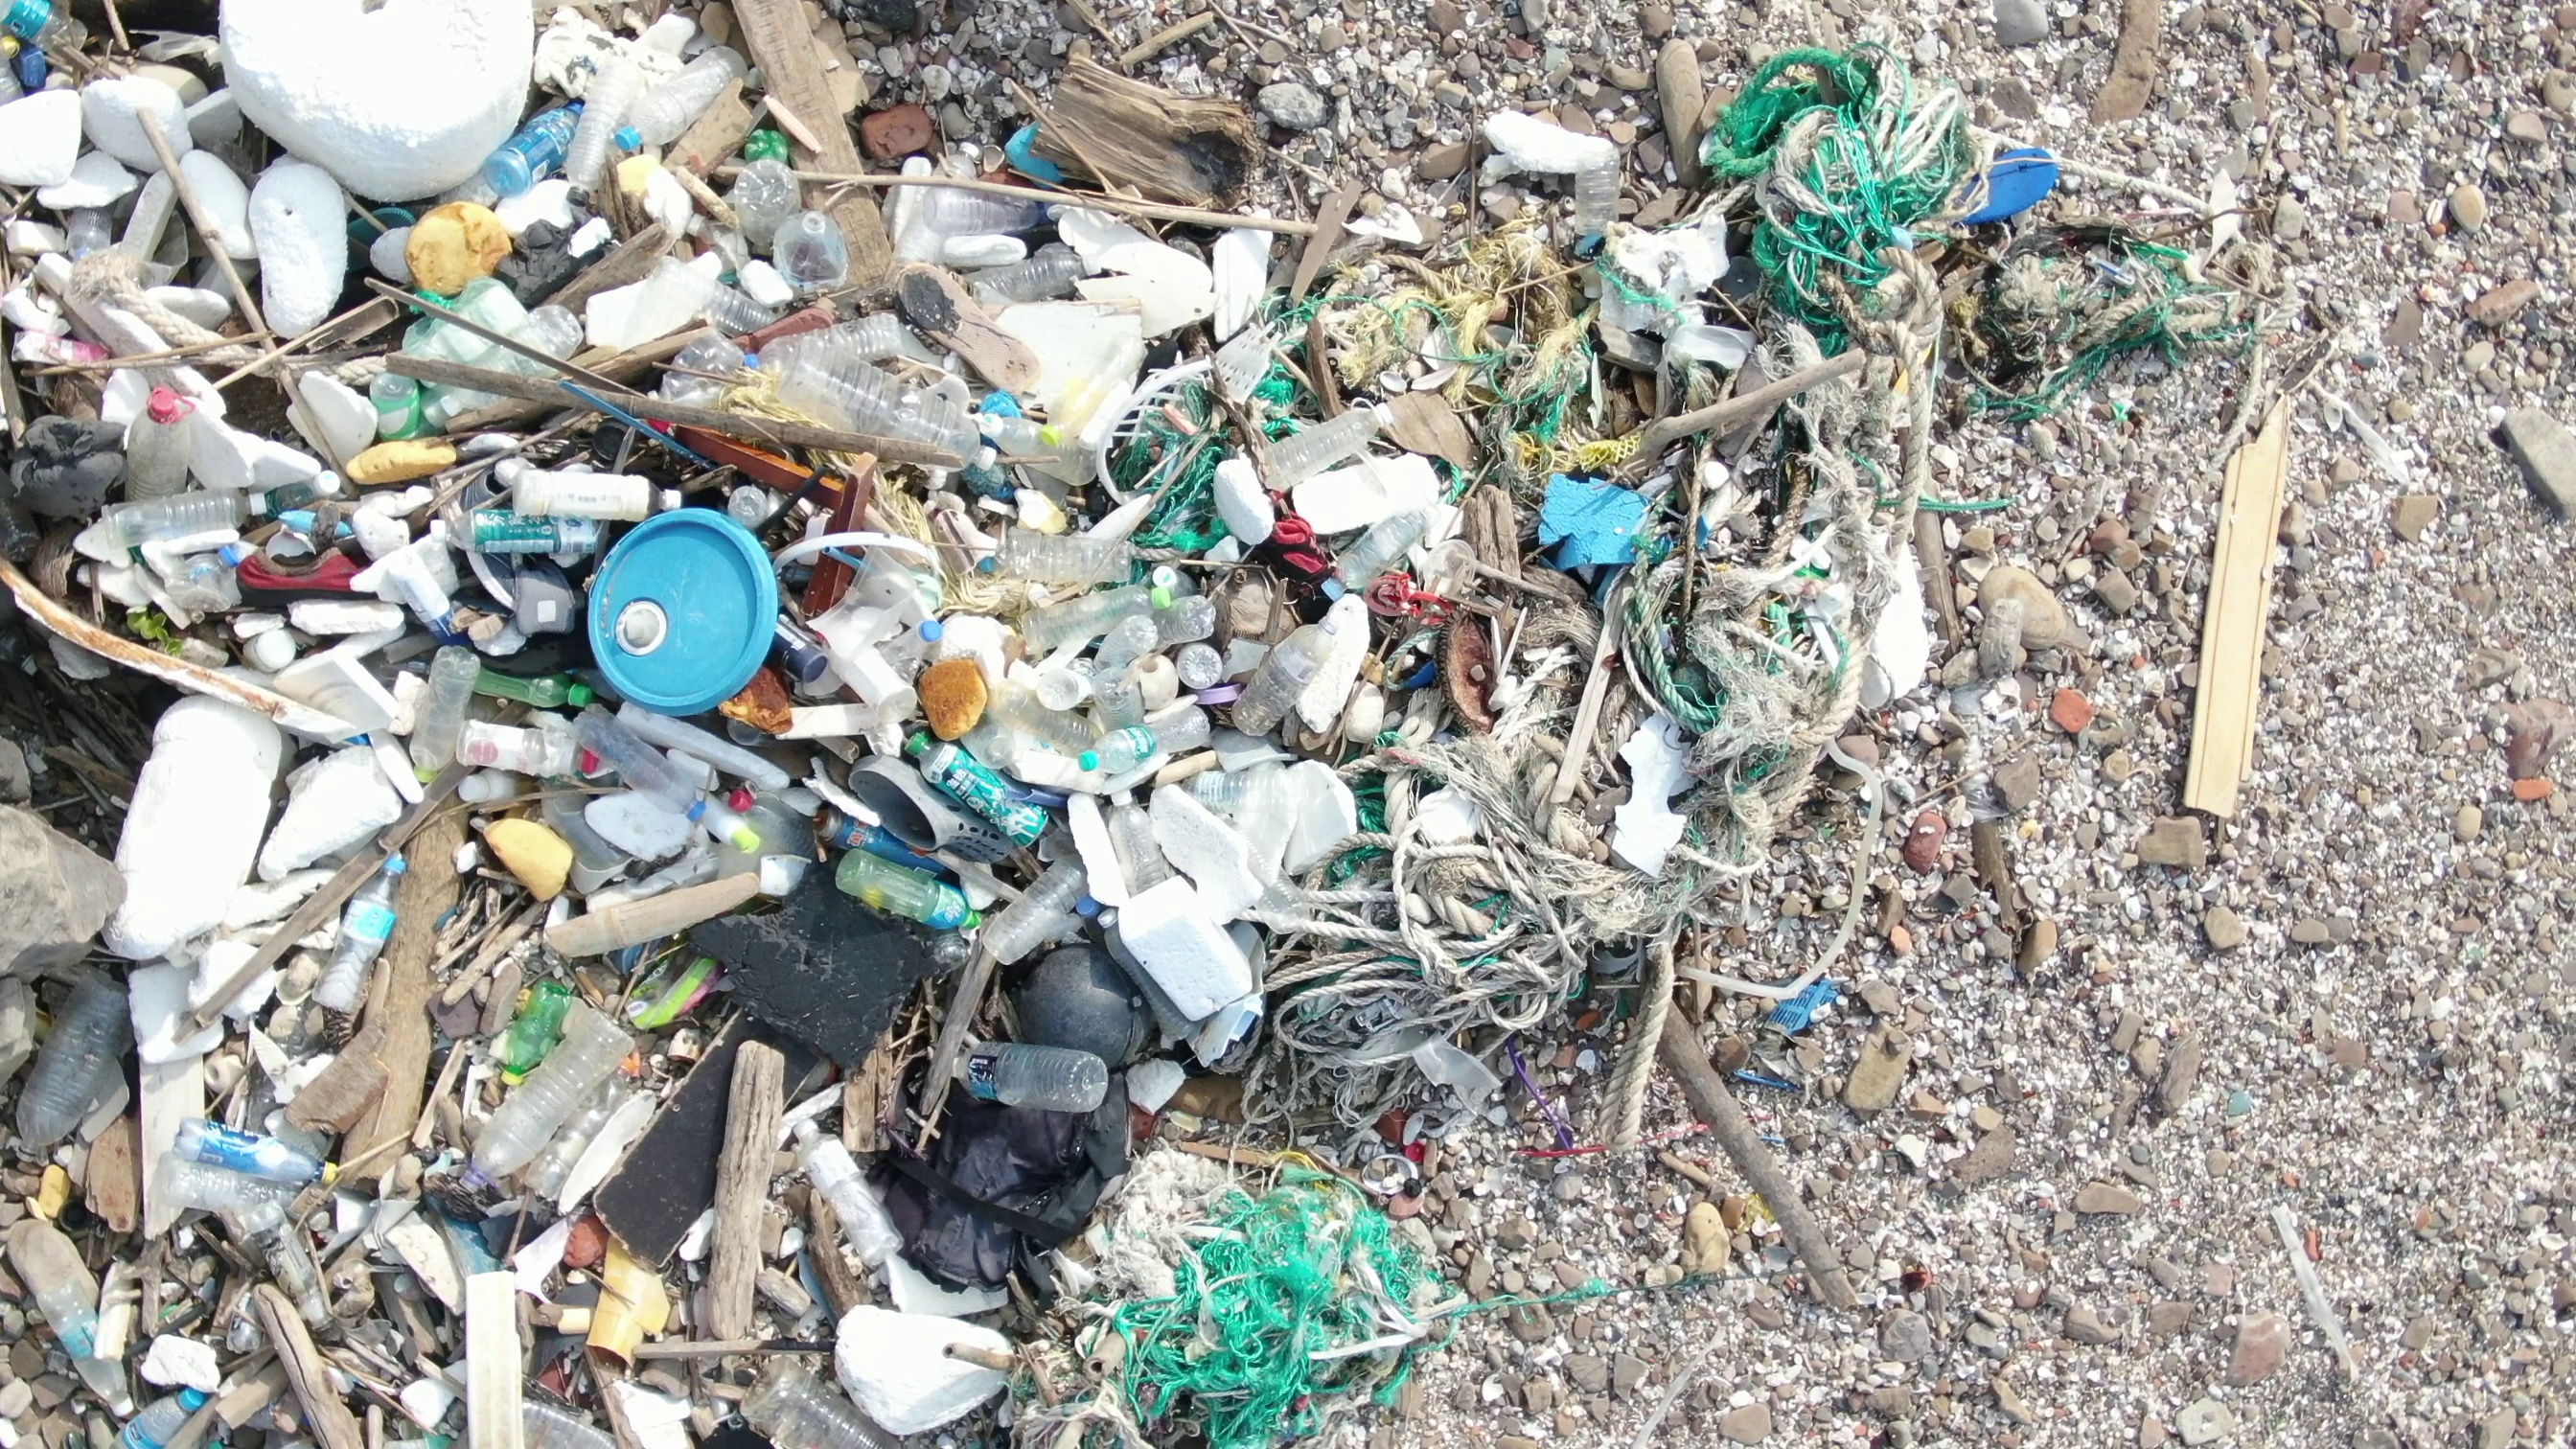bottle: (768, 327, 993, 481), (1014, 594, 1231, 729), (725, 154, 860, 308), (895, 724, 1060, 847), (311, 844, 421, 1028), (414, 292, 614, 393), (786, 1106, 908, 1270), (573, 694, 715, 823), (1247, 382, 1408, 495), (982, 839, 1106, 970), (828, 840, 987, 941), (163, 1106, 349, 1191), (1228, 614, 1348, 740), (943, 1037, 1122, 1116), (402, 630, 487, 789), (481, 83, 600, 191), (124, 372, 214, 513), (964, 533, 1141, 600), (458, 497, 619, 570), (103, 488, 269, 556), (513, 467, 694, 527), (494, 971, 573, 1108), (821, 614, 913, 717), (455, 649, 584, 717), (943, 251, 1100, 303), (1569, 126, 1637, 244), (913, 189, 1062, 242), (115, 1376, 205, 1449), (462, 715, 559, 780), (361, 372, 428, 460), (1069, 718, 1168, 775), (2, 2, 103, 57), (741, 113, 801, 175), (899, 612, 952, 679)
garbage: (5, 4, 2302, 1449)
